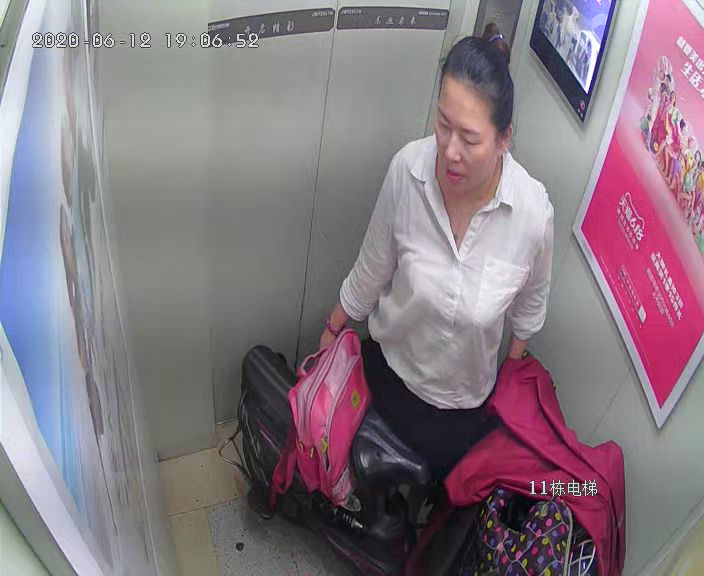Electric-bicycle: (234, 345, 612, 576)
